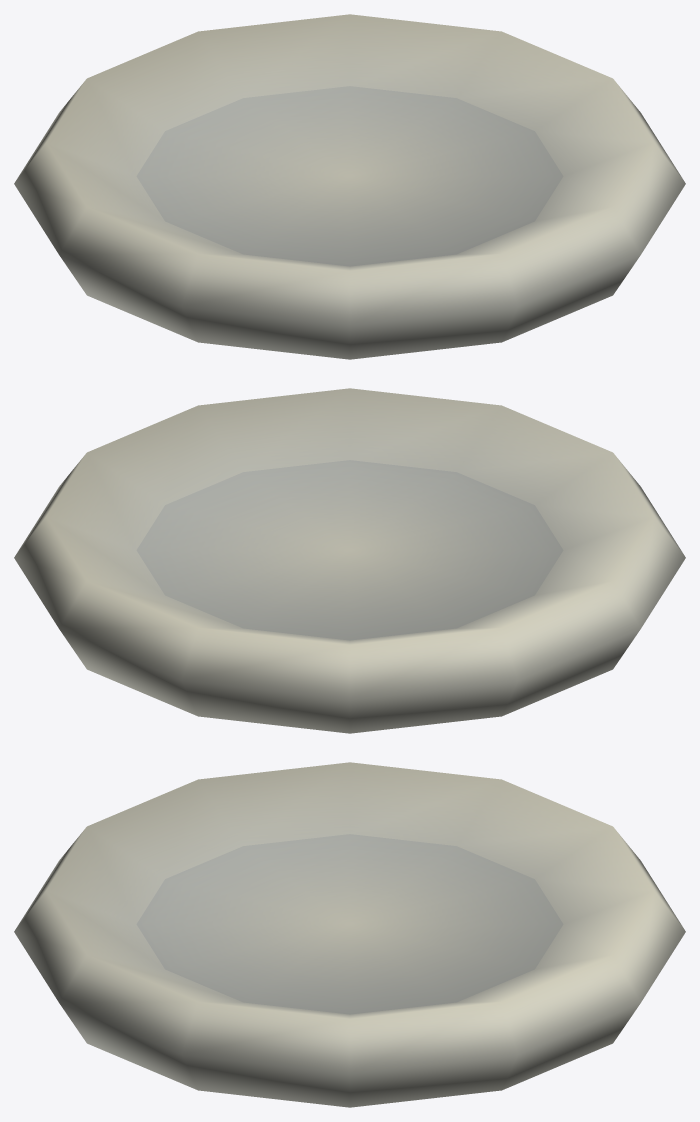
File: plate_LOD_setup.fbx
The picture shows the model from 3 angles, top to bottom: view 1: azimuth 30°, elevation 25°; view 2: azimuth 150°, elevation 25°; view 3: azimuth 270°, elevation 25°; orthographic projection.
Visible parts, largest first — view 1: plate_LOD0; view 2: plate_LOD0; view 3: plate_LOD0.
Boxes of the visible parts, <box> form: plate_LOD0: <box>14,14,685,359</box>; plate_LOD0: <box>14,388,685,733</box>; plate_LOD0: <box>14,762,685,1107</box>.
Size of what is drawn, in the model's own units: 67.01 by 13.44 by 67.01.
